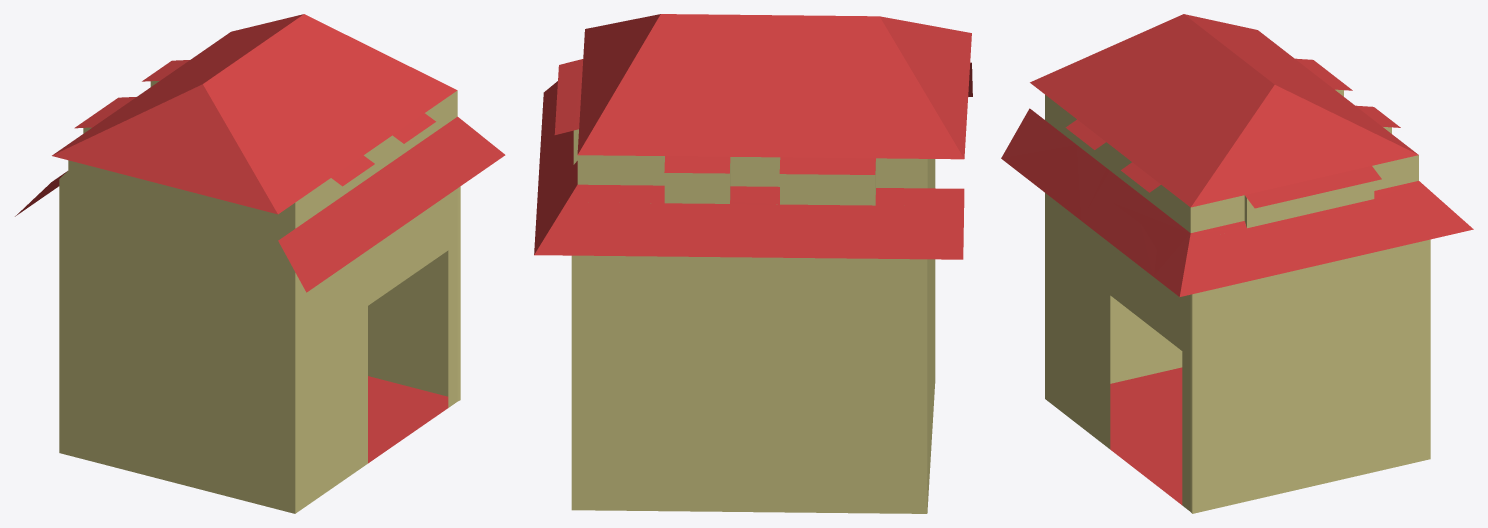
3 views of the same model, side by side, from view 1: azimuth 30°, elevation 25°; view 2: azimuth 150°, elevation 25°; view 3: azimuth 270°, elevation 25° (orthographic). The views are drawn at different scales.
Visible parts, largest first — view 1: group_5, group_3, group_8, group_9, group_6, group_7; view 2: group_3, group_5, group_9, group_7, group_8, group_4; view 3: group_5, group_3, group_9, group_7, group_8, group_6, group_4.
Boxes of the visible parts, <box> form: group_5: <box>68,81,457,513</box>; group_3: <box>52,14,457,214</box>; group_8: <box>23,117,505,292</box>; group_9: <box>59,171,460,455</box>; group_6: <box>368,376,448,463</box>; group_7: <box>15,117,457,265</box>; group_3: <box>554,14,971,174</box>; group_5: <box>573,129,935,513</box>; group_9: <box>571,203,927,513</box>; group_7: <box>534,62,972,259</box>; group_8: <box>534,87,962,259</box>; group_4: <box>555,63,963,174</box>; group_5: <box>1045,89,1418,511</box>; group_3: <box>1030,14,1418,208</box>; group_9: <box>1190,239,1430,513</box>; group_7: <box>1111,181,1473,296</box>; group_8: <box>1001,108,1471,296</box>; group_6: <box>1110,367,1182,504</box>; group_4: <box>1066,23,1398,207</box>.
Bounding box in the file's own units: 15.28 × 14.8 × 12.94.
